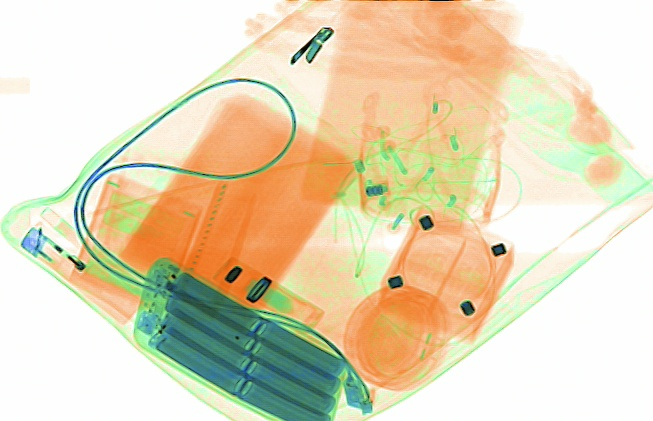lighter: (17, 222, 137, 320)
powerbank: (130, 254, 350, 419)
